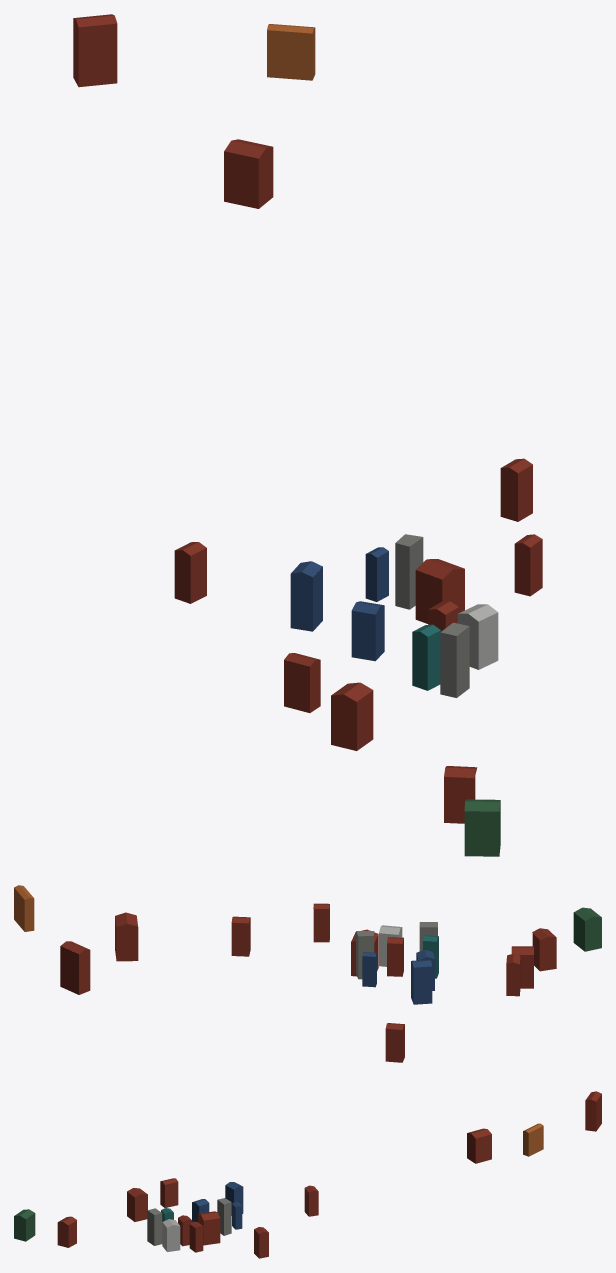
File: near-15-27373-14875.ea8011bc.glb
3 views of the same model, one above another, from view 1: azimuth 30°, elevation 25°; view 2: azimuth 150°, elevation 25°; view 3: azimuth 270°, elevation 25° (orthographic). The views are drawn at different scales.
Bounding box in the file's own units: 144 × 135 × 380.
